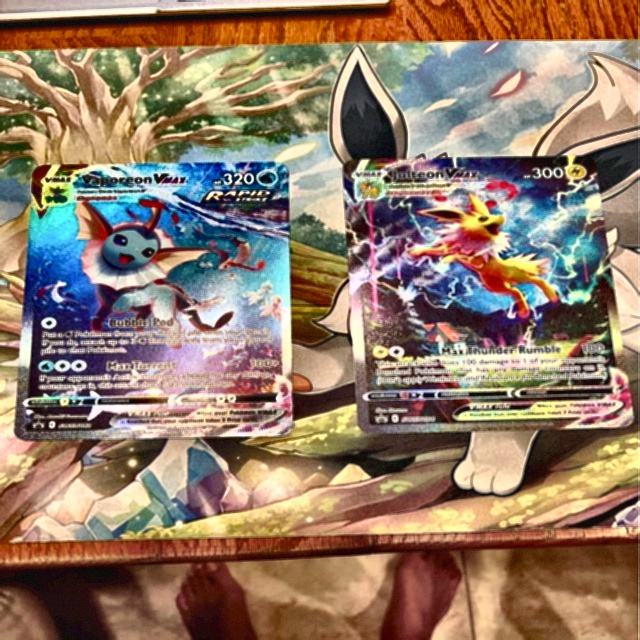card: (341, 154, 635, 435), (12, 160, 294, 442)
